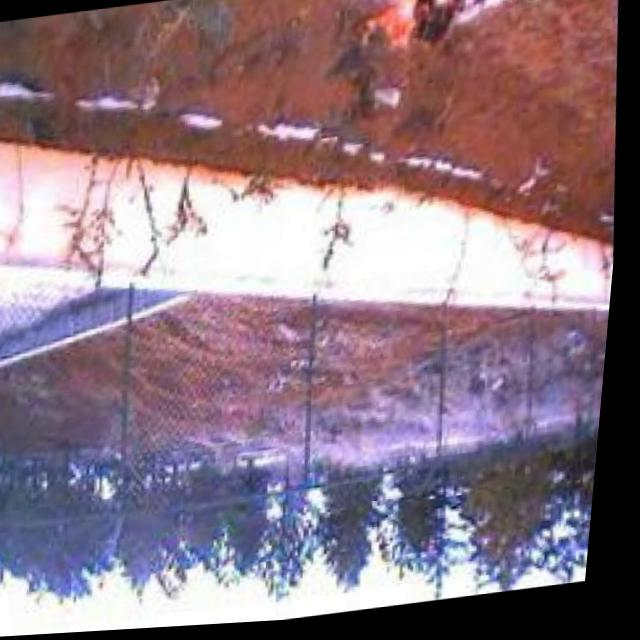fire: (348, 0, 500, 70)
